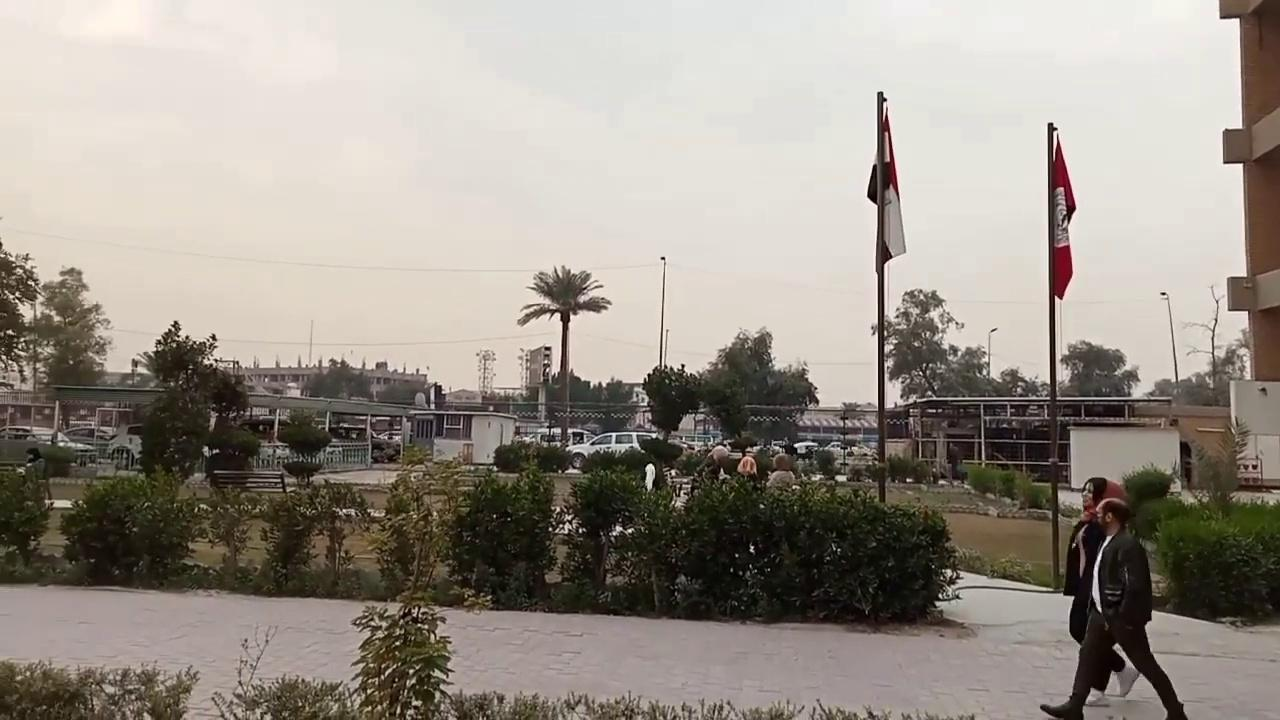car: (0, 424, 96, 470), (563, 430, 659, 471), (512, 426, 596, 448)
person: (1039, 498, 1188, 719), (1062, 476, 1140, 705), (22, 447, 54, 509), (765, 453, 795, 488), (736, 446, 758, 481), (946, 442, 963, 481)
tree: (134, 319, 259, 484), (439, 463, 560, 610), (57, 468, 202, 588), (516, 263, 611, 446), (697, 325, 818, 445), (348, 601, 455, 718), (557, 462, 650, 594), (870, 286, 964, 402), (28, 264, 113, 387), (252, 488, 320, 592), (305, 478, 369, 588), (1190, 413, 1251, 517), (0, 235, 42, 385), (744, 359, 818, 444), (204, 478, 257, 587), (0, 464, 51, 571), (1182, 283, 1227, 394), (1058, 338, 1139, 397), (1120, 460, 1176, 544), (641, 362, 701, 439), (275, 408, 332, 483), (474, 347, 496, 396)
